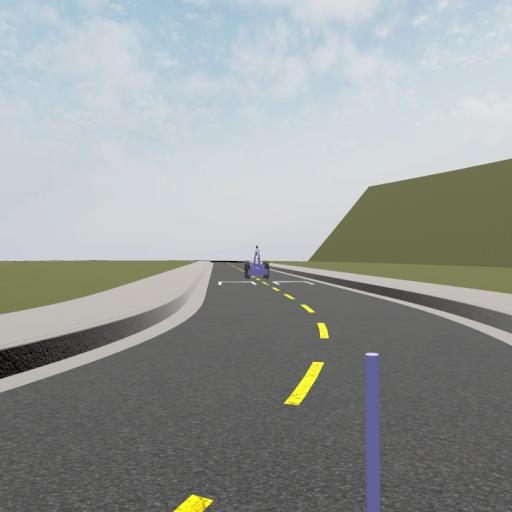ERP-42: (245, 245, 270, 281)
